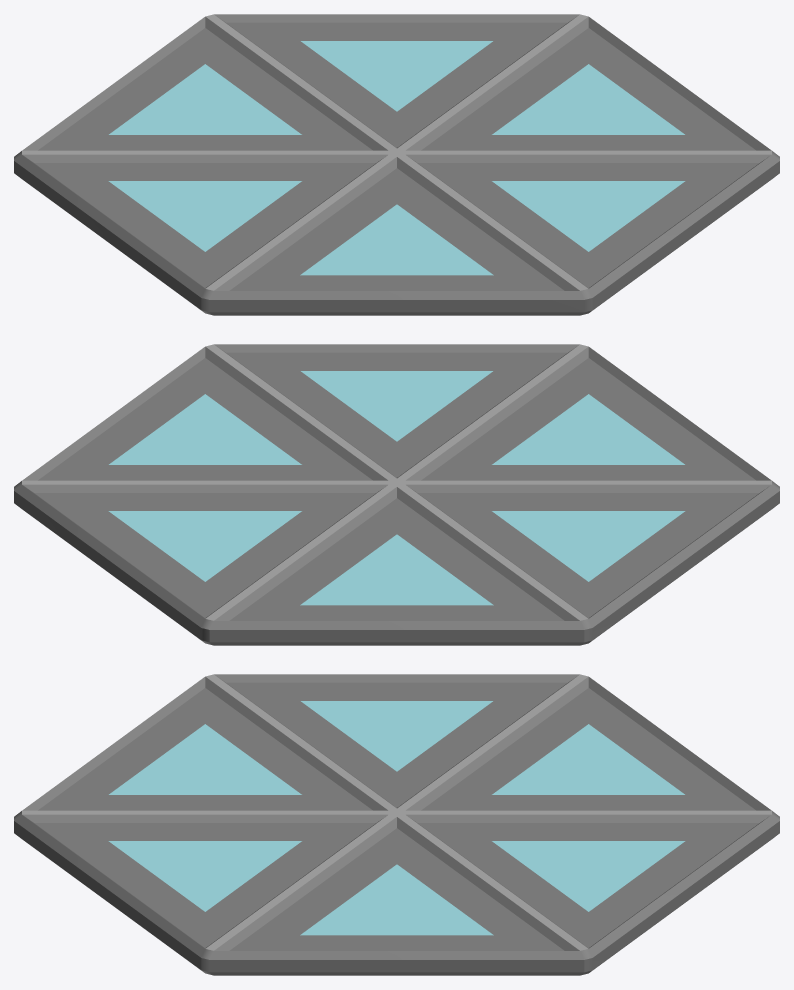
The model's file is Flat asset 3.fbx.
3 views of the same model, one above another, from view 1: azimuth 30°, elevation 25°; view 2: azimuth 150°, elevation 25°; view 3: azimuth 270°, elevation 25° (orthographic).
Parts seen in each view (by area): view 1: new_floor_tile1; view 2: new_floor_tile1; view 3: new_floor_tile1.
Part boxes in pixels (<box>): new_floor_tile1: <box>14,14,779,315</box>; new_floor_tile1: <box>14,344,779,645</box>; new_floor_tile1: <box>14,674,779,975</box>.
Size of the model in its own units: 18.36 by 0.7488 by 21.05.
